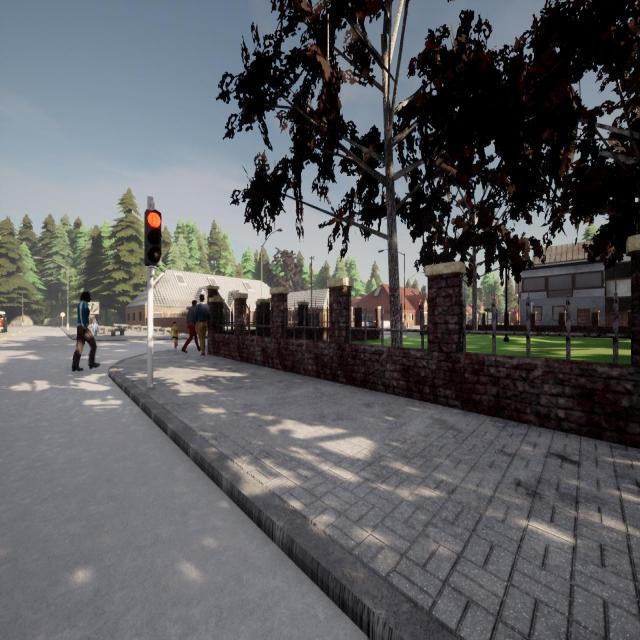Pedestrian: (72, 290, 99, 370), (192, 294, 210, 357), (181, 298, 200, 353), (170, 320, 180, 352), (92, 316, 98, 336)
Traffic_Signs: (60, 312, 65, 318)
Vehicle: (0, 311, 8, 334)
traffic_light: (144, 209, 162, 266), (418, 302, 422, 312)
